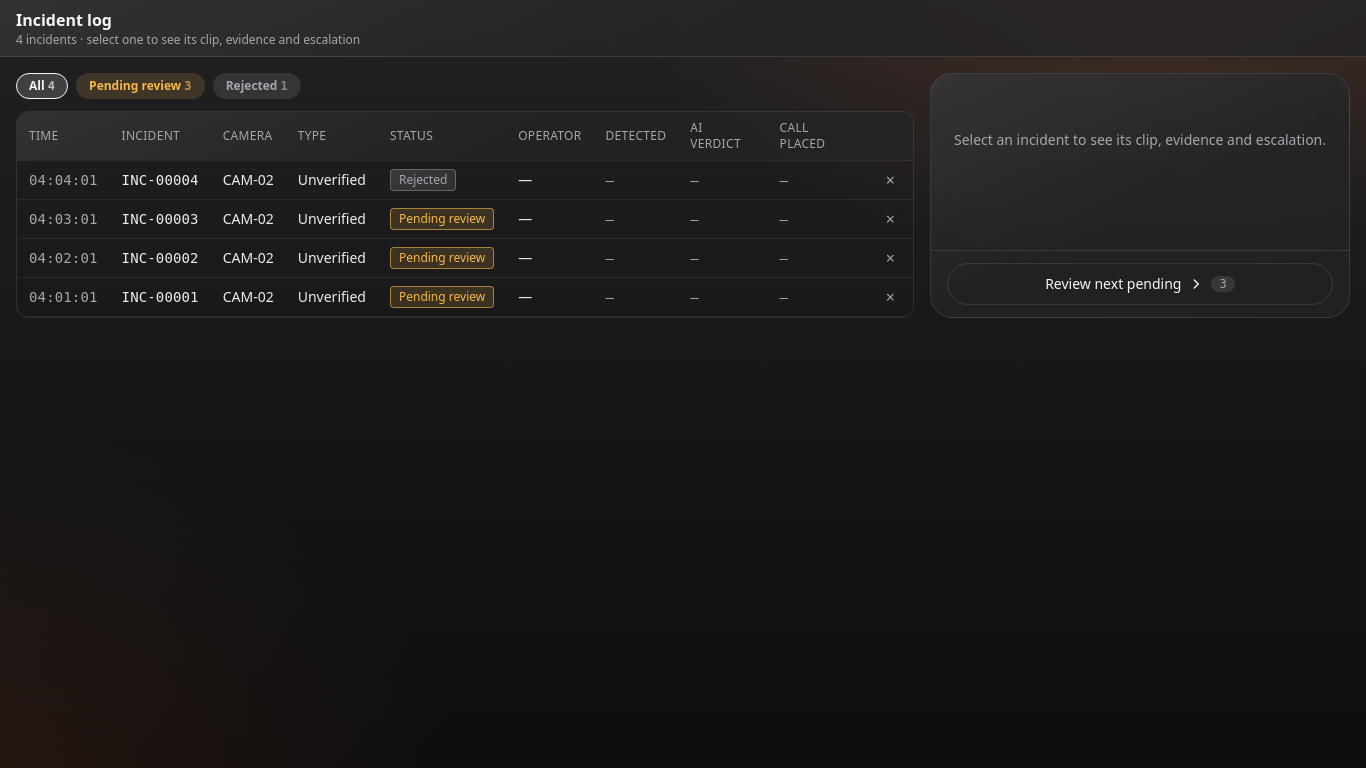
Test case: Incident log decisions › Next pending walks the undecided incidents newest-first and wraps
Click the text "INC-00003": (160, 219) [110,200,211,238]
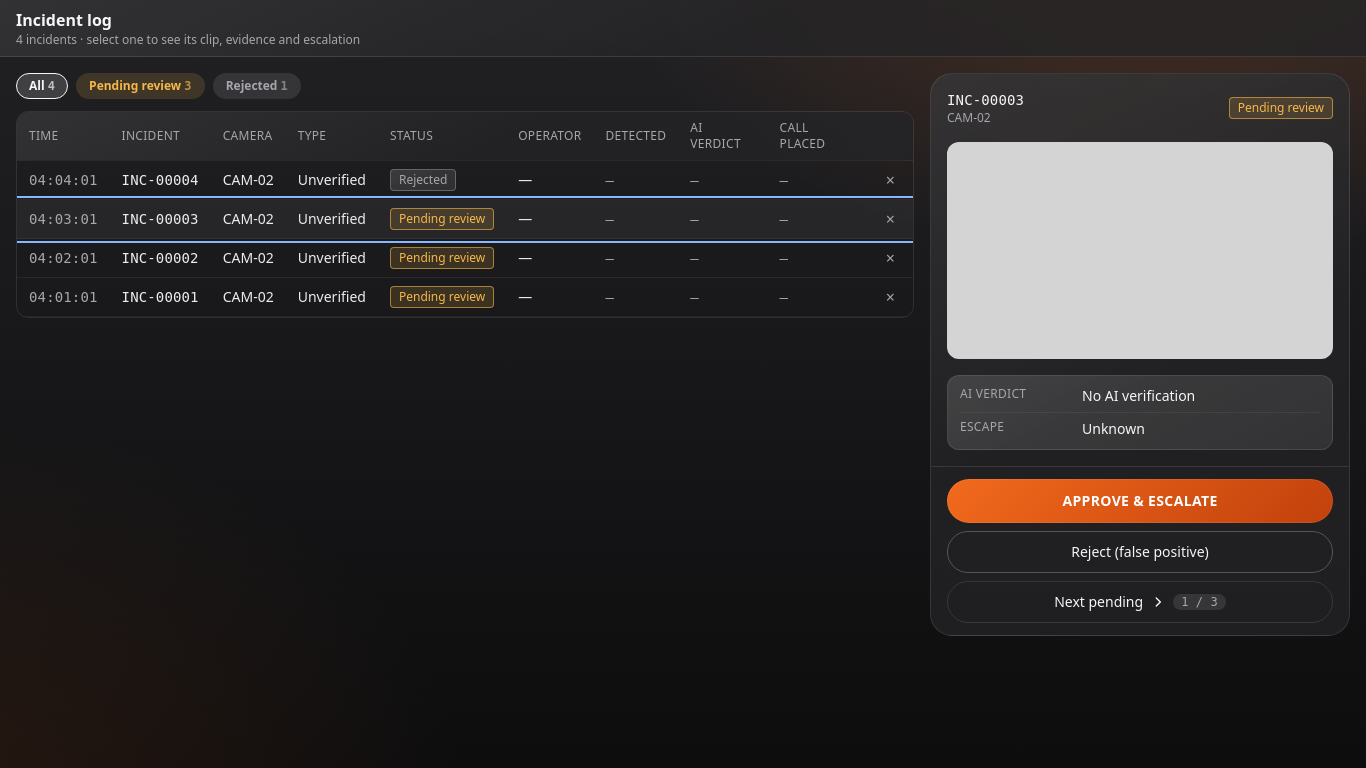
Now the button "Next pending 1 / 3" is shown
Click the button "Next pending 1 / 3": (1140, 602) [947,581,1333,623]
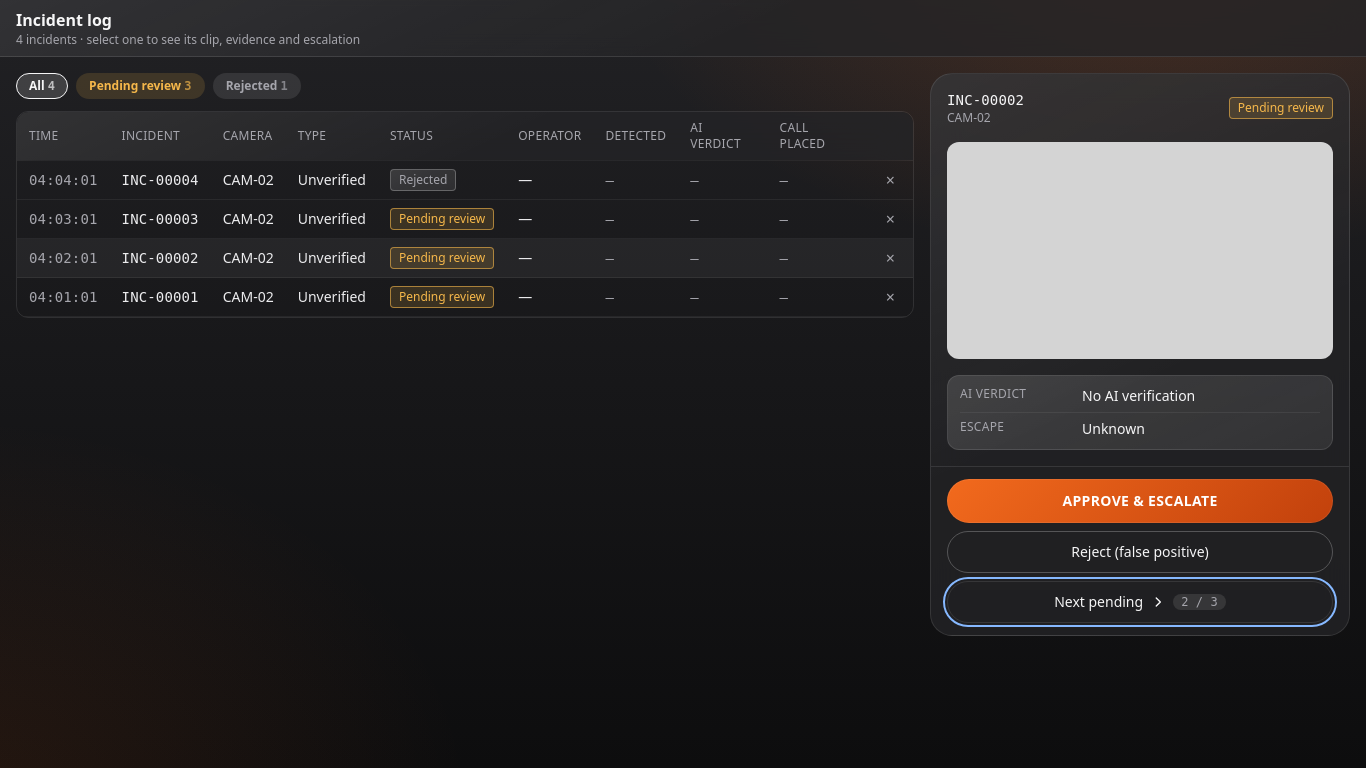
Now the element that starts with "INC-00002" is shown, box [947,92,1024,108]
Click the button "Next pending 2 / 3": (1140, 602) [947,581,1333,623]
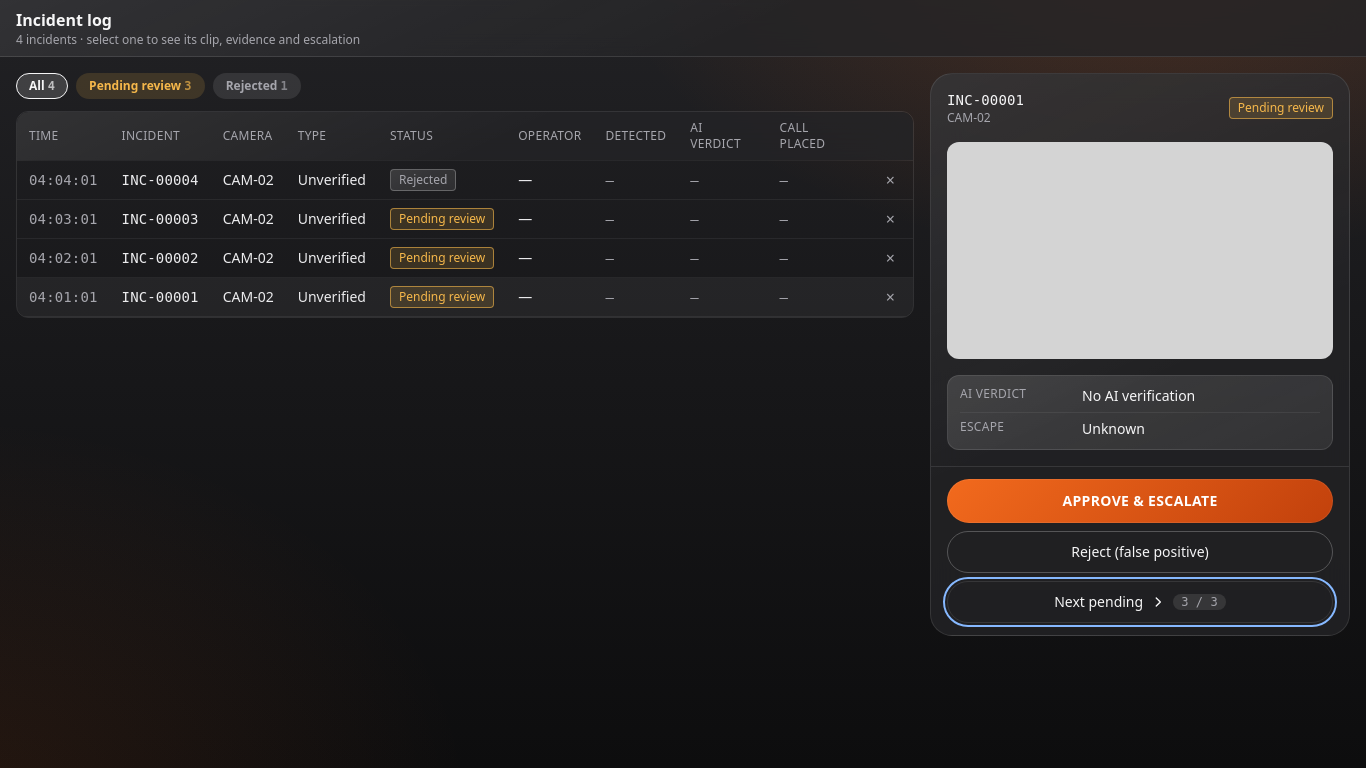
Click the button "Next pending 3 / 3": (1140, 602) [947,581,1333,623]
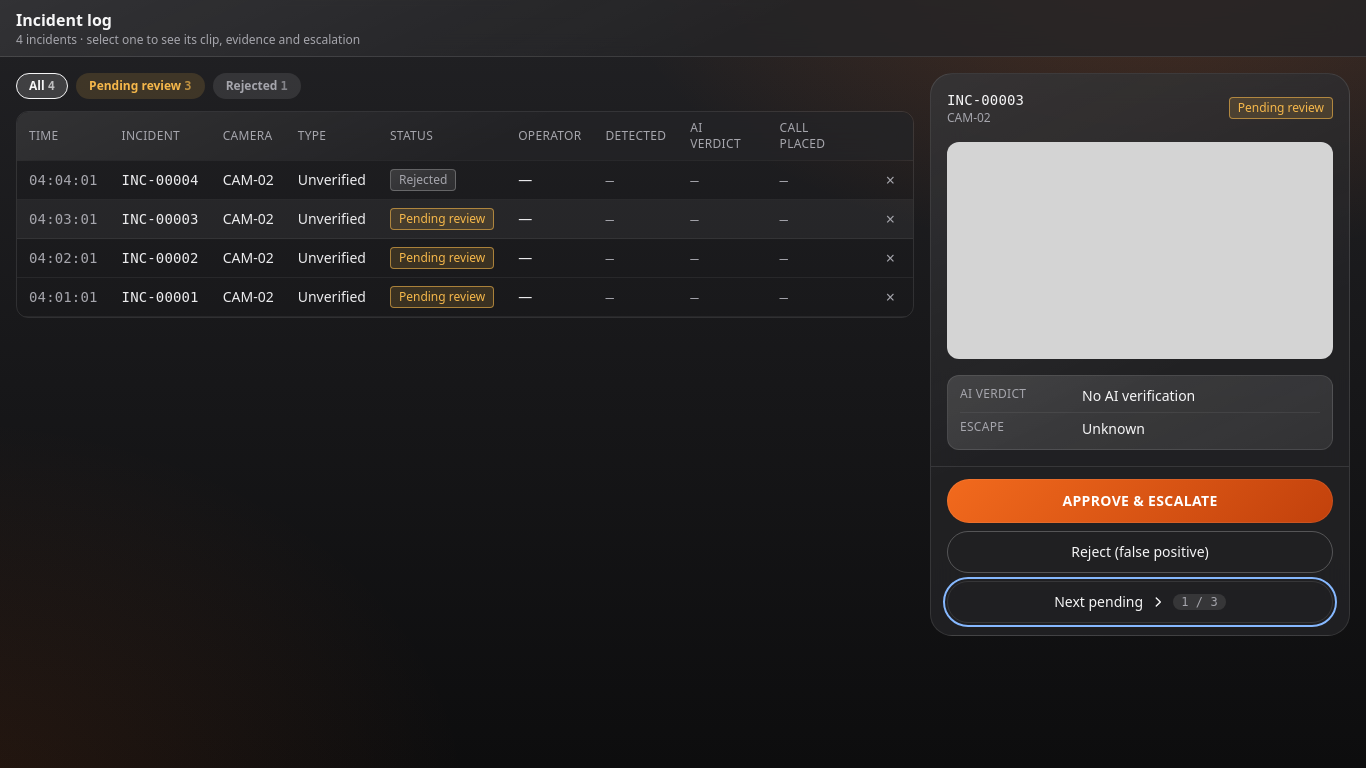
Now the element that starts with "INC-00003" is shown, box [947,92,1024,108]
